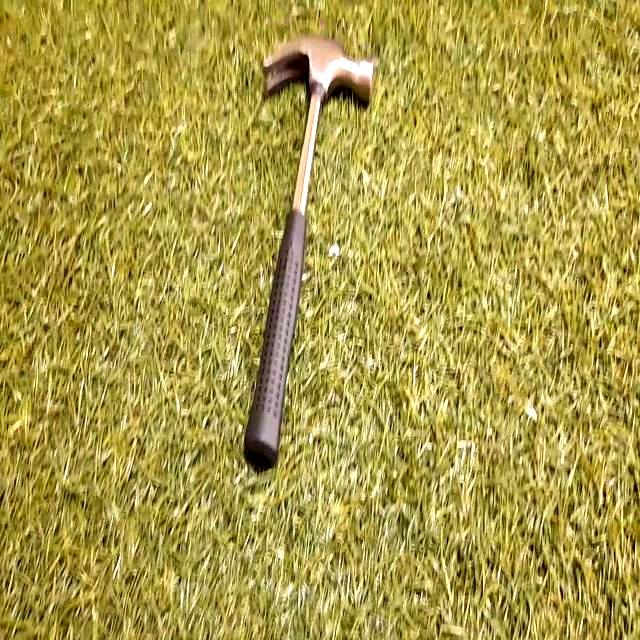hammer: (246, 28, 378, 480)
